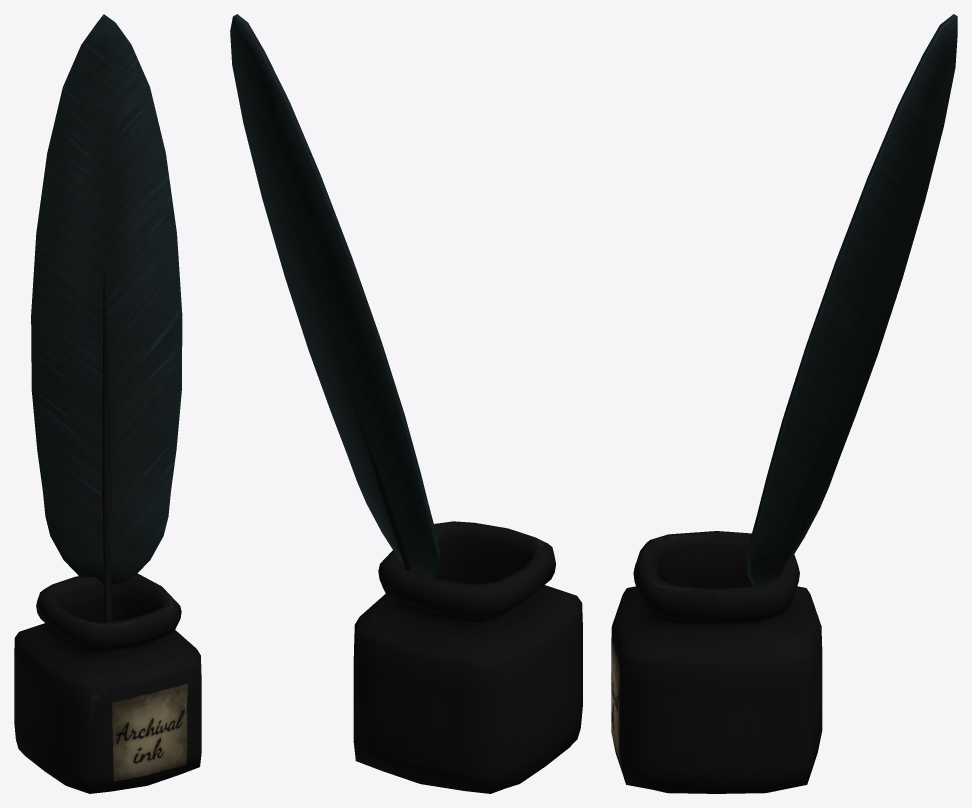
File: inkwell.glb
3 views of the same model, side by side, from view 1: azimuth 30°, elevation 25°; view 2: azimuth 150°, elevation 25°; view 3: azimuth 270°, elevation 25° (orthographic). The views are drawn at different scales.
Parts seen in each view (by area): view 1: Quill_1, Inkwell_0; view 2: Inkwell_0, Quill_1; view 3: Inkwell_0, Quill_1.
Boxes of the visible parts, bbox=[...] form: Quill_1: bbox=[31, 14, 182, 622]; Inkwell_0: bbox=[14, 573, 201, 793]; Inkwell_0: bbox=[353, 521, 582, 793]; Quill_1: bbox=[230, 14, 439, 580]; Inkwell_0: bbox=[611, 531, 822, 793]; Quill_1: bbox=[747, 14, 957, 586].
Bounding box in the file's own units: 0.135 × 0.4495 × 0.1758.
2 materials, 2 textured.
